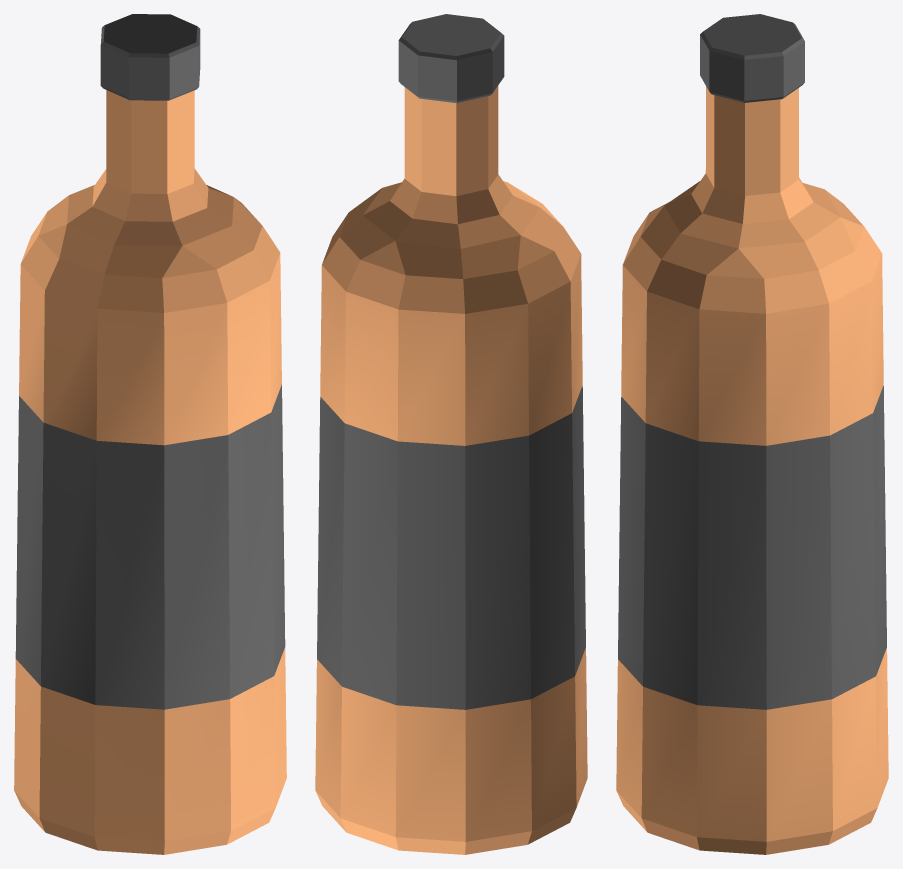
File: Wine 15.fbx
3 views of the same model, side by side, from view 1: azimuth 30°, elevation 25°; view 2: azimuth 150°, elevation 25°; view 3: azimuth 270°, elevation 25° (orthographic).
Visible parts, largest first — view 1: Node 0; view 2: Node 0; view 3: Node 0.
Part boxes in pixels (x1,y1,x2,y2): Node 0: [14, 14, 286, 854]; Node 0: [315, 14, 587, 854]; Node 0: [616, 14, 888, 854].
Size of the model in its own units: 0.0781 by 0.2422 by 0.0781.
